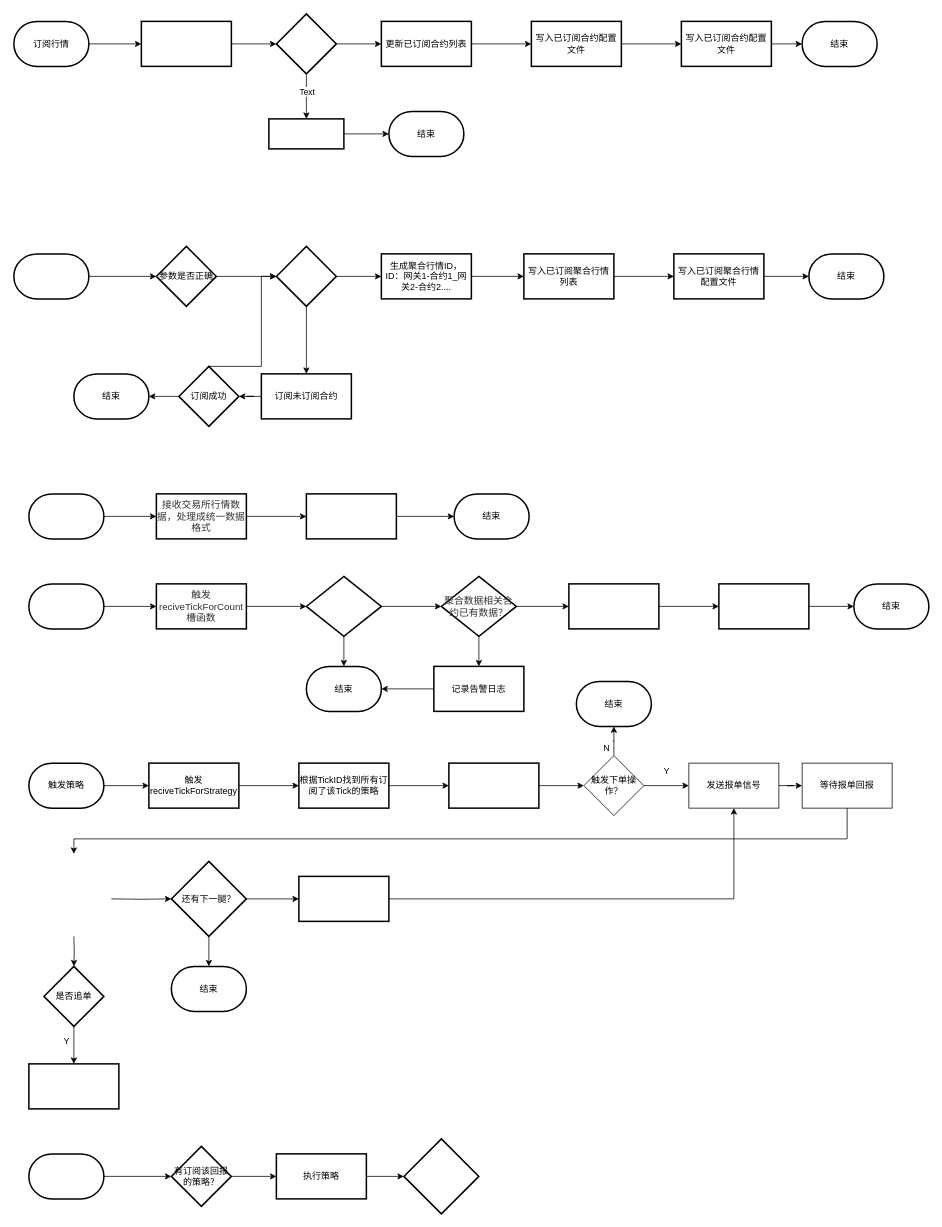
This 942x1227 diagram has some shape labels left out. The shapes that lost their labels are listed below. From the top down, each one's centre as x and y in pixels, then its label:
At point 186,43: "调用接口订阅".
At point 306,43: "接口返回成功".
At point 306,133: "错误提示".
At point 51,276: "新增聚合行情".
At point 306,276: "已订阅所有单个合约行情".
At point 66,516: "接收 行情Tick".
At point 351,516: "发送信号newTick".
At point 66,606: "行情tick处理".
At point 343,606: "有相关联已订阅的聚合数据？".
At point 613,606: "根据聚合公式计算出聚合行情，并记录Tick最大延迟".
At point 763,606: "发送行情信号newTick".
At point 493,785: "从线程池中获取线程执行策略".
At point 343,898: "发送保单信号".
At point 73,1086: "追单".
At point 66,1176: "报单回报".
At point 441,1176: "报单全成？".
